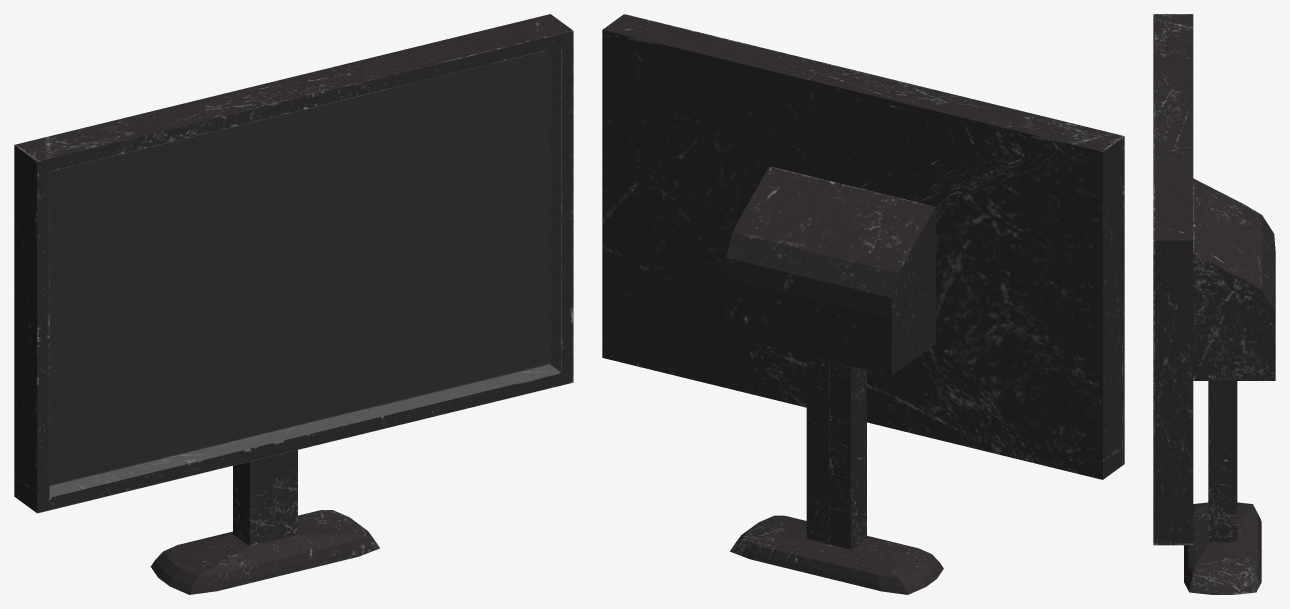
File: m_standingMonitor.fbx
3 renders of one model, left to right at view 1: azimuth 30°, elevation 25°; view 2: azimuth 150°, elevation 25°; view 3: azimuth 270°, elevation 25°, orthographic. The views are drawn at different scales.
Parts seen in each view (by area): view 1: m_standMonitor_screen, m_standMonitor_stand; view 2: m_standMonitor_screen, m_standMonitor_stand; view 3: m_standMonitor_screen, m_standMonitor_stand.
Part boxes in pixels (left/top/right/bottom): m_standMonitor_screen: left=14, top=14, right=573, bottom=513; m_standMonitor_stand: left=150, top=450, right=379, bottom=594; m_standMonitor_screen: left=602, top=14, right=1124, bottom=479; m_standMonitor_stand: left=730, top=355, right=943, bottom=594; m_standMonitor_screen: left=1153, top=14, right=1275, bottom=545; m_standMonitor_stand: left=1184, top=381, right=1261, bottom=594.
Size of the model in its own units: 106 by 92.2 by 24.06.
